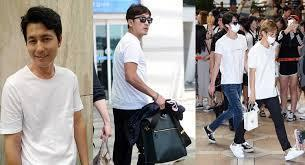Tshirt: (0, 62, 87, 165), (104, 29, 160, 113), (247, 39, 279, 108), (213, 34, 248, 85)
pants: (233, 94, 296, 150), (207, 79, 250, 138)
